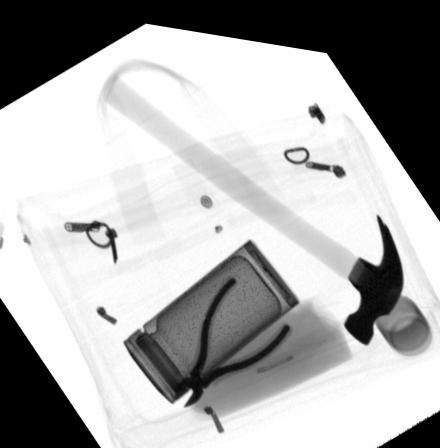Hammer: (102, 70, 405, 334)
Pliers: (175, 268, 291, 402)
